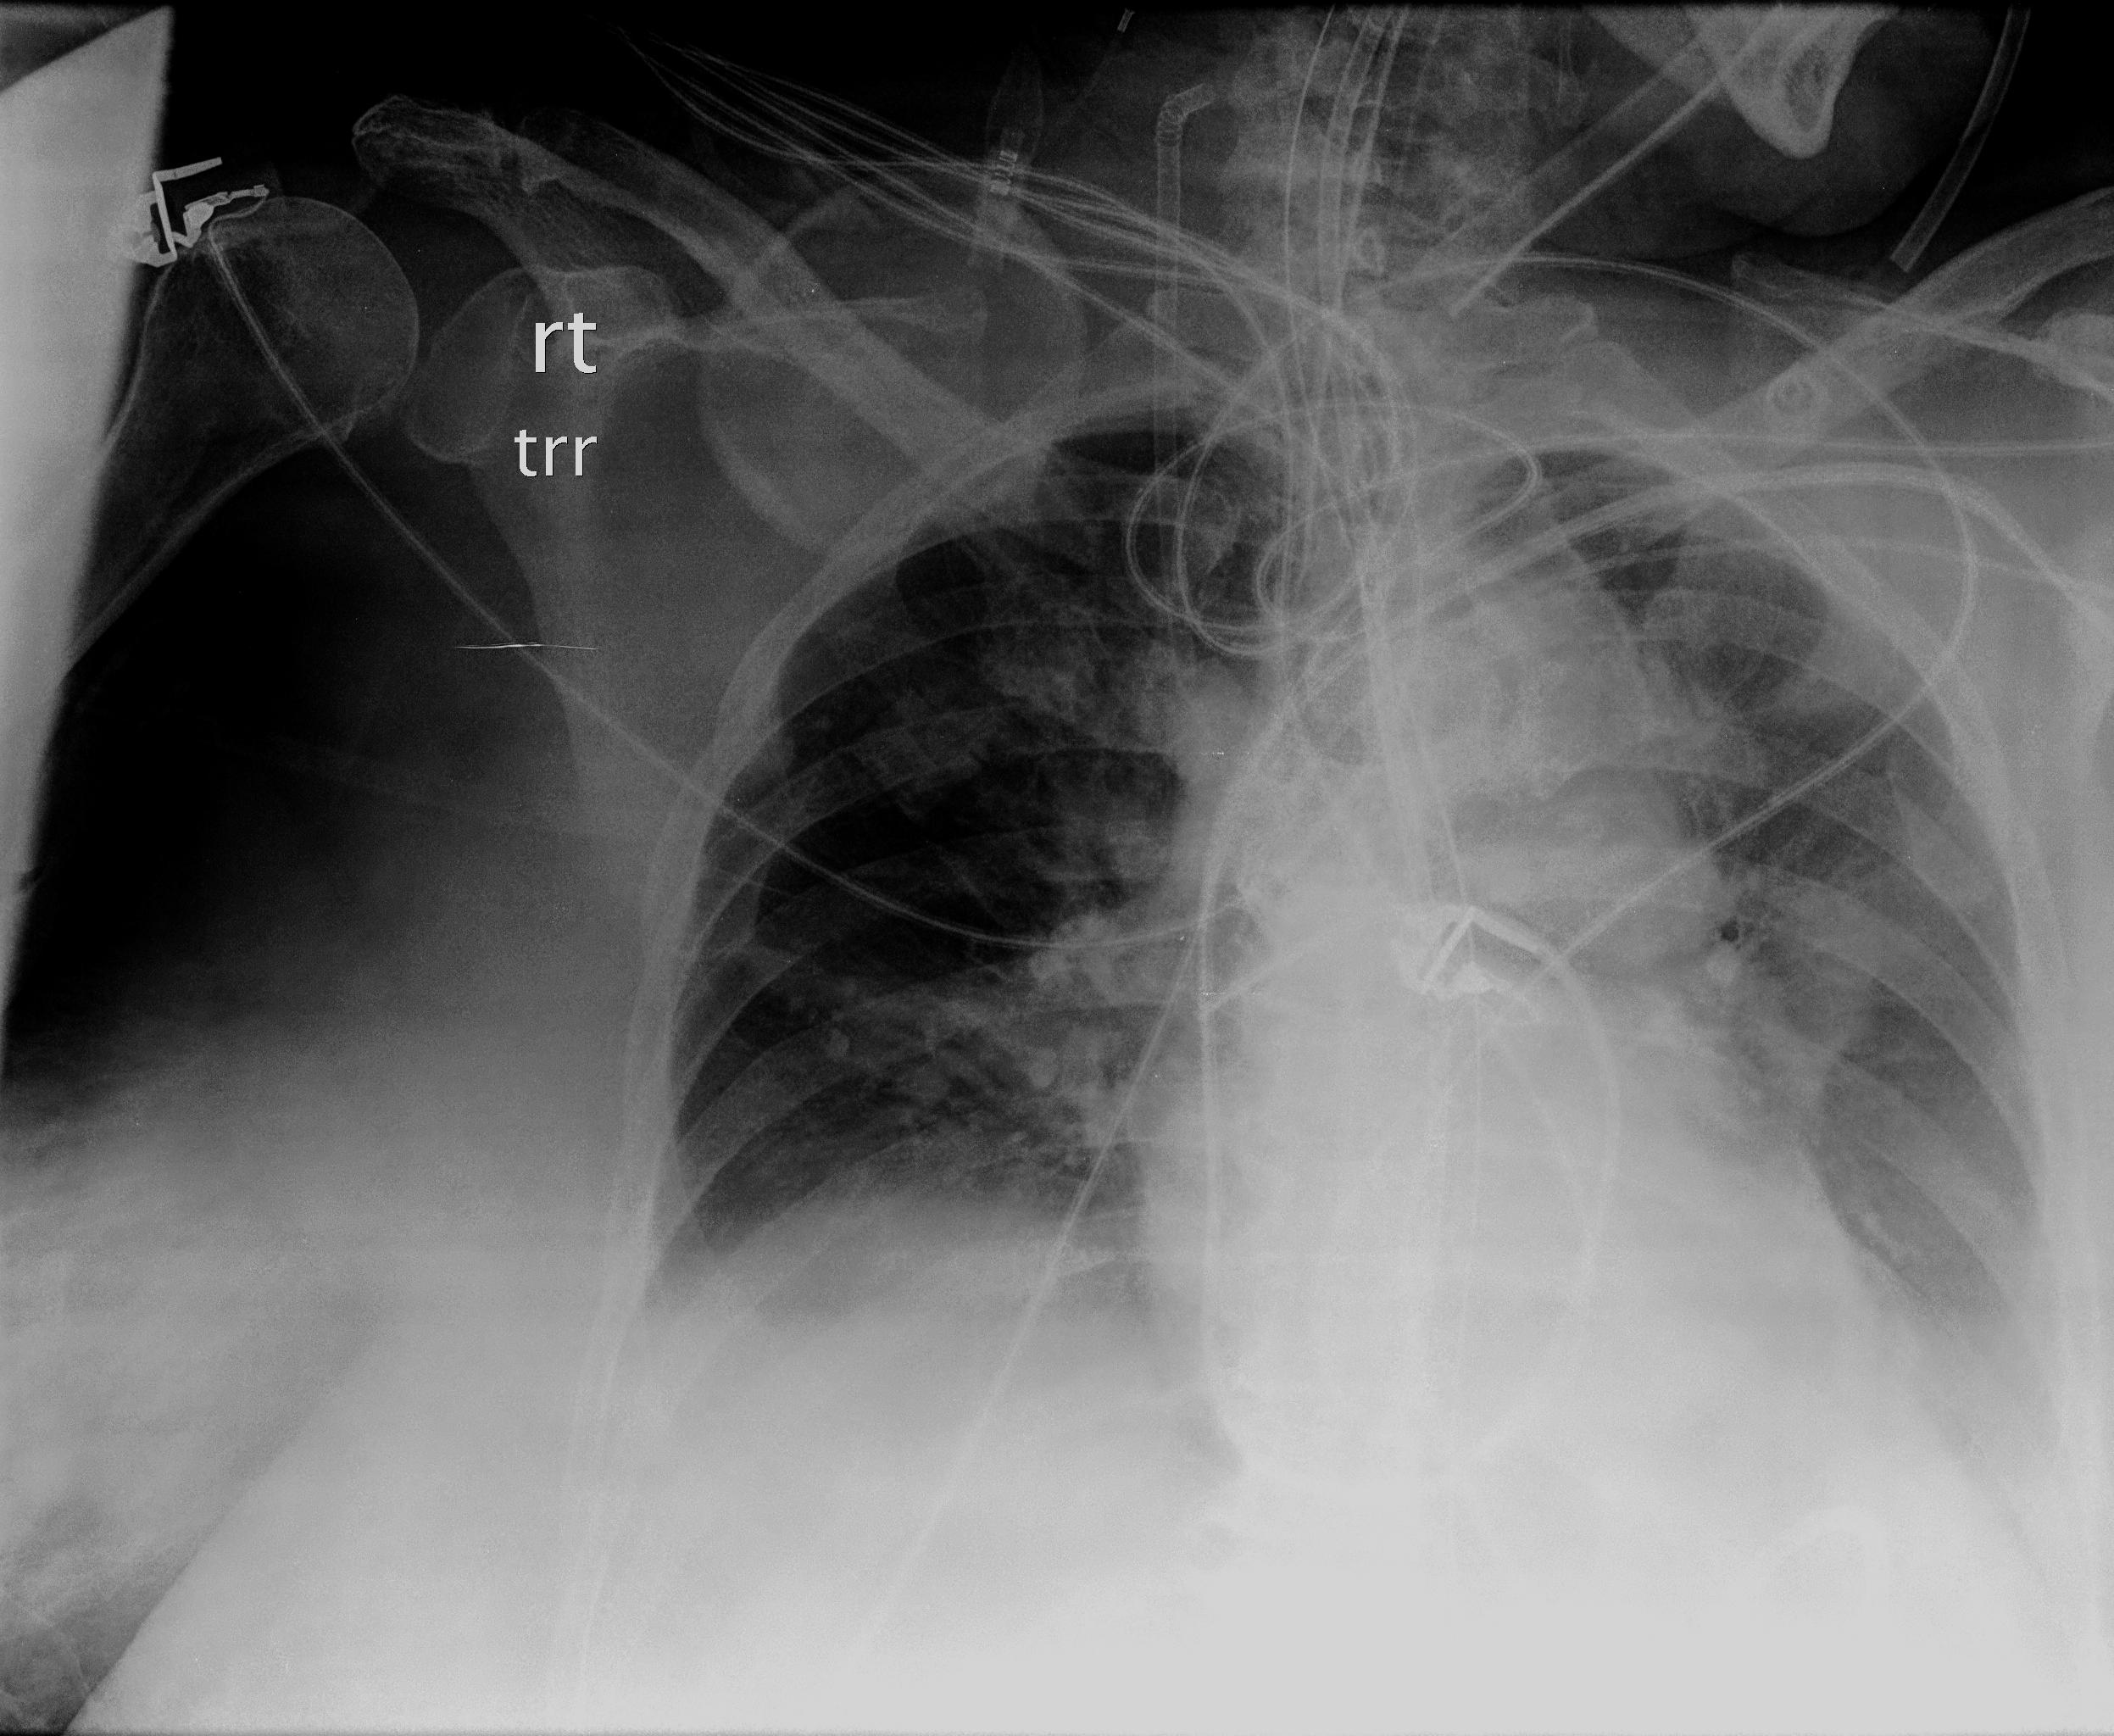Pleural Effusion: (592, 1220, 1131, 1497), (1823, 1048, 2081, 1615)
